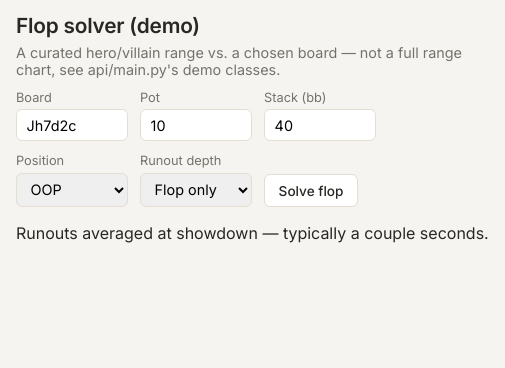
Test: FlopSolver › solves and shows each combo on click
Click the button "Solve flop".
click(311, 191)  # box [264,174,358,207]
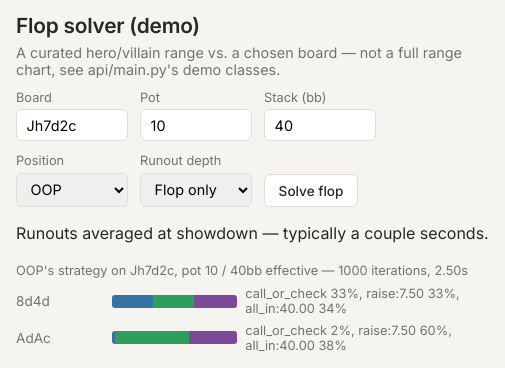
Expected: the text "AdAc" is shown, [16,330,51,346]
Expected: the text "8d4d" is shown, [16,293,50,309]
